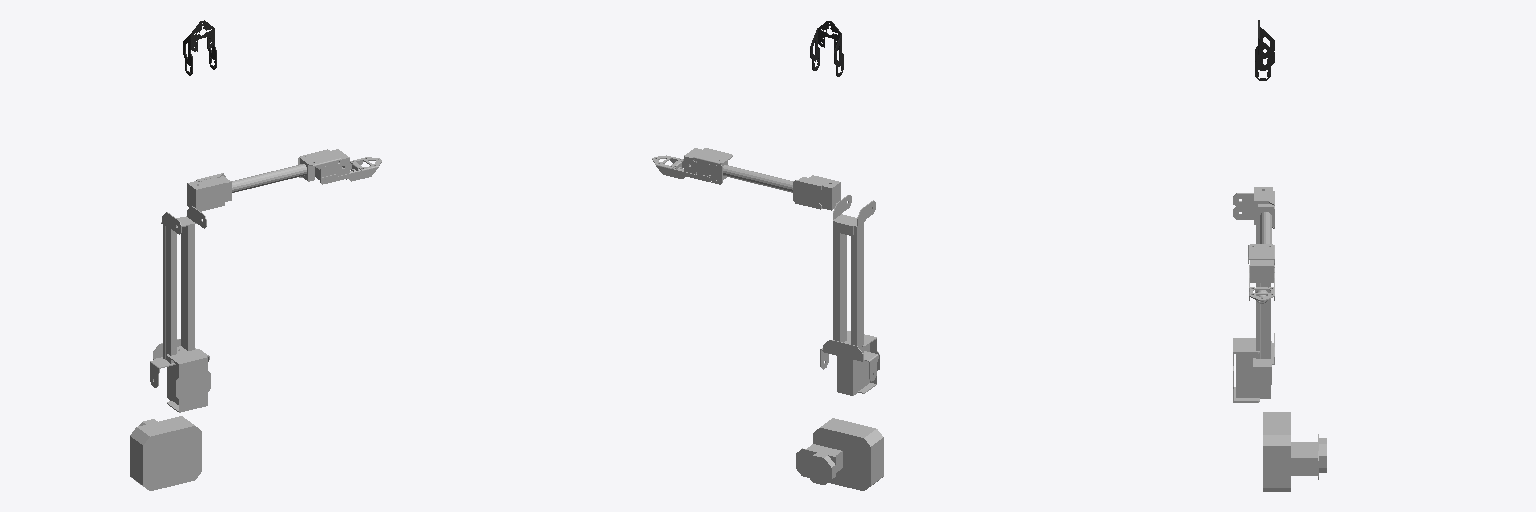
The robot description file, URDF, robot "roarm_description":
<?xml version="1.0" encoding="utf-8"?>
<robot
  name="roarm_description">
  <link
    name="base_link">
    <inertial>
      <origin
        xyz="0.00373847392098165 -1.52445893424664E-10 0.0264265327292804"
        rpy="0 0 0" />
      <mass
        value="0.326392759093976" />
      <inertia
        ixx="0.000224202818963409"
        ixy="-1.96773409840189E-13"
        ixz="-2.99224798427881E-05"
        iyy="0.000286616921839535"
        iyz="-3.10964171549742E-13"
        izz="0.000349957607258242" />
    </inertial>
    <visual>
      <origin
        xyz="0 0 0"
        rpy="-1.5707963 0 0" />
      <geometry>
        <mesh
          filename="package://roarm_description/meshes/base_link.STL" />
      </geometry>
      <material
        name="">
        <color
          rgba="0.752941176470588 0.752941176470588 0.752941176470588 1" />
      </material>
    </visual>
    <collision>
      <origin
        xyz="0 0 0"
        rpy="0 0 0" />
      <geometry>
        <mesh
          filename="package://roarm_description/meshes/base_link.STL" />
      </geometry>
    </collision>
  </link>
  <link
    name="link1">
    <inertial>
      <origin
        xyz="-3.11559626639357E-12 9.70240468164796E-06 -0.0146667419724465"
        rpy="0 0 0" />
      <mass
        value="0.0928887601998397" />
      <inertia
        ixx="6.09210980255232E-05"
        ixy="-2.79207542479444E-18"
        ixz="4.24841739939559E-15"
        iyy="2.53493566630784E-05"
        iyz="2.16442830142331E-08"
        izz="4.88050835919342E-05" />
    </inertial>
    <visual>
      <origin
        xyz="0 0 0"
        rpy="-1.5707963 0 0" />
      <geometry>
        <mesh
          filename="package://roarm_description/meshes/link1.STL" />
      </geometry>
      <material
        name="">
        <color
          rgba="0.752941176470588 0.752941176470588 0.752941176470588 1" />
      </material>
    </visual>
    <collision>
      <origin
        xyz="0 0 0"
        rpy="0 0 0" />
      <geometry>
        <mesh
          filename="package://roarm_description/meshes/link1.STL" />
      </geometry>
    </collision>
  </link>
  <joint
    name="base_link_to_link1"
    type="revolute">
    <origin
      xyz="0.0100000008759151 0 0.123059270461044"
      rpy="0 0 0" />
    <parent
      link="base_link" />
    <child
      link="link1" />
    <axis
      xyz="0 0 -1" />
    <limit
      lower="-3.1416"
      upper="3.1416"
      effort="0"
      velocity="0" />
  </joint>
  <link
    name="link2">
    <inertial>
      <origin
        xyz="0.122021157535333 6.61338425981053E-05 -9.50311342843365E-05"
        rpy="0 0 0" />
      <mass
        value="0.0895817175833772" />
      <inertia
        ixx="2.6269354271334E-05"
        ixy="-2.55344668379587E-06"
        ixz="-3.90237379833709E-09"
        iyy="0.000350369536011831"
        iyz="-6.82396195680563E-09"
        izz="0.000333056833230846" />
    </inertial>
    <visual>
      <origin
        xyz="0 0 0"
        rpy="-1.5707963 0 0" />
      <geometry>
        <mesh
          filename="package://roarm_description/meshes/link2.STL" />
      </geometry>
      <material
        name="">
        <color
          rgba="0.752941176470588 0.752941176470588 0.752941176470588 1" />
      </material>
    </visual>
    <collision>
      <origin
        xyz="0 0 0"
        rpy="0 0 0" />
      <geometry>
        <mesh
          filename="package://roarm_description/meshes/link2.STL" />
      </geometry>
    </collision>
  </link>
  <joint
    name="link1_to_link2"
    type="revolute">
    <origin
      xyz="0 0 0"
      rpy="-1.5707963267949 -1.5707963267949 0" />
    <parent
      link="link1" />
    <child
      link="link2" />
    <axis
      xyz="0 0 -1" />
    <limit
      lower="-1.5708"
      upper="1.5708"
      effort="0"
      velocity="0" />
  </joint>
  <link
    name="link3">
    <inertial>
      <origin
        xyz="-0.00076280945740961 -0.114419656440929 -0.000177274968057332"
        rpy="0 0 0" />
      <mass
        value="0.123009044986454" />
      <inertia
        ixx="0.000104111883333949"
        ixy="1.06443789581137E-07"
        ixz="1.54925816846055E-07"
        iyy="1.46357151076022E-05"
        iyz="-1.6435520156444E-07"
        izz="0.000104009297710106" />
    </inertial>
    <visual>
      <origin
        xyz="0 0 0"
        rpy="-1.5707963 0 0" />
      <geometry>
        <mesh
          filename="package://roarm_description/meshes/link3.STL" />
      </geometry>
      <material
        name="">
        <color
          rgba="0.752941176470588 0.752941176470588 0.752941176470588 1" />
      </material>
    </visual>
    <collision>
      <origin
        xyz="0 0 0"
        rpy="0 0 0" />
      <geometry>
        <mesh
          filename="package://roarm_description/meshes/link3.STL" />
      </geometry>
    </collision>
  </link>
  <joint
    name="link2_to_link3"
    type="revolute">
    <origin
      xyz="0.236815132922094 0.0300023995170449 0"
      rpy="0 0 1.5707963267949" />
    <parent
      link="link2" />
    <child
      link="link3" />
    <axis
      xyz="0 0 1" />
    <limit
      lower="-1"
      upper="3.1416"
      effort="0"
      velocity="0" />
  </joint>
  <link
    name="gripper_link">
    <inertial>
      <origin
        xyz="0.0288857415118809 -0.000776842039187049 -0.000779764534254559"
        rpy="0 0 0" />
      <mass
        value="0.00365697683069397" />
      <inertia
        ixx="1.15139272656909E-06"
        ixy="1.31250385773157E-07"
        ixz="-2.41954534039415E-13"
        iyy="2.33034171341163E-06"
        iyz="4.1392257505497E-13"
        izz="1.47179863096272E-06" />
    </inertial>
    <visual>
      <origin
        xyz="0 0 0"
        rpy="-1.5707963 0 0" />
      <geometry>
        <mesh
          filename="package://roarm_description/meshes/gripper_link.STL" />
      </geometry>
      <material
        name="">
        <color
          rgba="0.219607843137255 0.219607843137255 0.219607843137255 1" />
      </material>
    </visual>
    <collision>
      <origin
        xyz="0 0 0"
        rpy="0 0 0" />
      <geometry>
        <mesh
          filename="package://roarm_description/meshes/gripper_link.STL" />
      </geometry>
    </collision>
  </link>
  <joint
    name="link3_to_gripper_link"
    type="revolute">
    <origin
      xyz="0.002906 -0.21599 -0.00066683"
      rpy="-3.1415926 0 -1.5708" />
    <parent
      link="link3" />
    <child
      link="gripper_link" />
    <axis
      xyz="0 0 1" />
    <limit
      lower="0"
      upper="1.5"
      effort="0"
      velocity="0" />
  </joint>
  <link name="hand_tcp"></link>
  <joint
    name="link3_to_hand_tcp"
    type="fixed">
    <origin
      xyz="0.002 -0.2802 0"
      rpy="-1.5708 0 -1.5708" />
    <parent
      link="link3" />
    <child
      link="hand_tcp" />
    <axis
      xyz="0 0 0" />
  </joint>
</robot>

--- What the picture shows (computed from the rendered views, not written in the file) ---
3 views of the same robot in one strip: view 1: azimuth 30°, elevation 25°; view 2: azimuth 150°, elevation 25°; view 3: azimuth 270°, elevation 25° (orthographic).
Robot: roarm_description — 6 links, 5 joints (4 revolute, 1 fixed); root link base_link; default pose: every joint at zero.
Links seen in each view (by area): view 1: link2, base_link, link3, link1, gripper_link; view 2: link2, base_link, link3, link1, gripper_link; view 3: base_link, link3, link2, link1, gripper_link.
Boxes of the visible links, x1,y1,x2,y2 form: link2: (150,206,209,387); base_link: (130,416,201,490); link3: (187,149,381,211); link1: (167,346,210,412); gripper_link: (183,20,216,75); link2: (820,195,878,381); base_link: (796,418,883,490); link3: (652,148,840,210); link1: (837,331,879,395); gripper_link: (810,21,843,76); base_link: (1263,412,1326,491); link3: (1248,187,1274,303); link2: (1233,193,1274,389); link1: (1233,338,1270,402); gripper_link: (1255,20,1274,80).
Bounding box of the posed robot: 0.3698 × 0.1236 × 0.6845 m (x, y, z).
5 mesh visuals loaded from 5 distinct referenced files (5 binary STL).